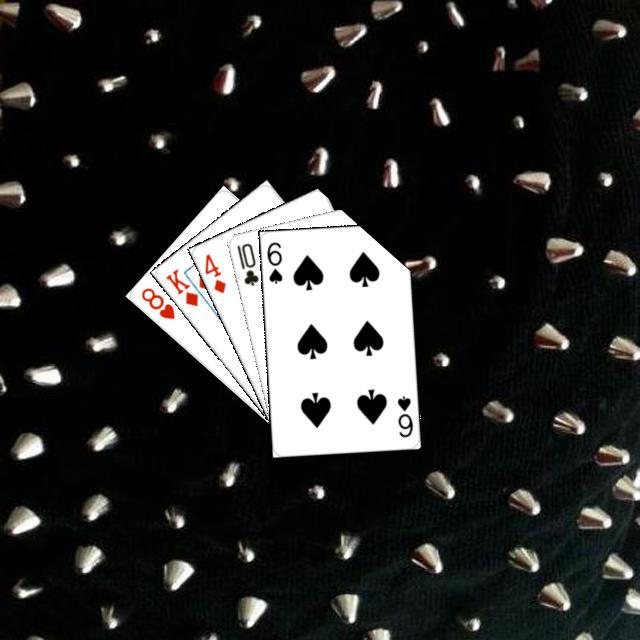10c: (232, 238, 260, 287)
4d: (199, 249, 228, 295)
6s: (262, 237, 284, 285), (393, 391, 415, 439)
8h: (136, 283, 177, 321)
Kd: (160, 264, 200, 308)
